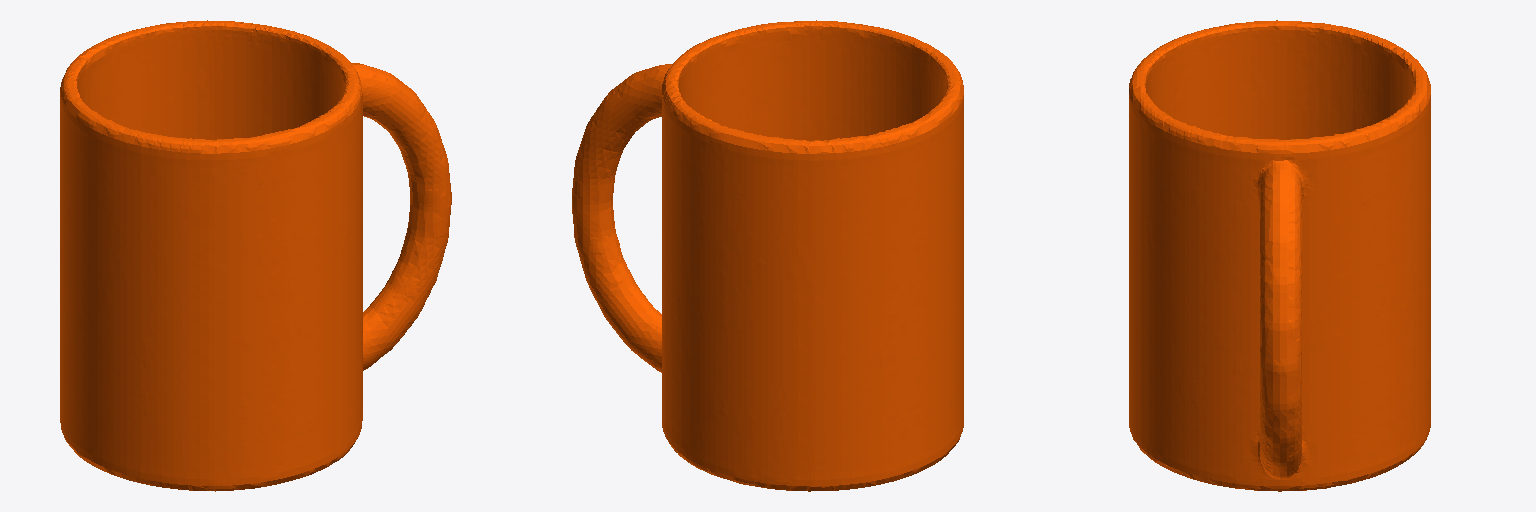
The robot description file, URDF, robot "coffeemug":
<?xml version="1.0" ?>
<robot name="coffeemug">
   <material name="obj_color">
      <color rgba="1.0 0.423529411765 0.0392156862745 1.0"/>
   </material>
   <link name="top">
      <inertial>
         <origin rpy="0.0004860394160278482 0.0005903152767221295 0.0006628325619120242" xyz="-0.0130366633331053 1.874057200945073e-05 -0.01363870291143066"/>
         <mass value="0.3551413429493927"/>
         <inertia ixx="0.0005866178480747908" ixy="-3.265668563784668e-07" ixz="-1.928795259165905e-05" iyy="0.0006628311163633332" iyz="5.573408750741258e-09" izz="0.000489738290223878"/>
      </inertial>
      <visual>
         <origin rpy="0 0 0" xyz="0 0 0"/>
         <geometry>
            <mesh filename="top_watertight_tiny.stl" scale="1 1 1"/>
         </geometry>
         <material name="obj_color"/>
      </visual>
      <collision>
         <origin rpy="0 0 0" xyz="0 0 0"/>
         <geometry>
            <mesh filename="top_watertight_tiny.obj" scale="1 1 1"/>
         </geometry>
      </collision>
   </link>
   <link name="bottom">
      <inertial>
         <origin rpy="1.633333333194242e-08 1.633333333194243e-08 1.633333333357667e-08" xyz="0.3464080000000008 0.3464080000000008 0.3464080000000008"/>
         <mass value="0.0009800000000000017"/>
         <inertia ixx="1.633333333248717e-08" ixy="5.447480642029219e-19" ixz="5.447480642029219e-19" iyy="1.633333333248717e-08" iyz="5.447480642029219e-19" izz="1.633333333248717e-08"/>
      </inertial>
      <visual>
         <origin rpy="0 0 0" xyz="0 0 0"/>
         <geometry>
            <mesh filename="bottom_watertight_tiny.stl" scale="1 1 1"/>
         </geometry>
         <material name="obj_color"/>
      </visual>
   </link>
   <link name="world"/>
   <joint name="world_to_base" type="fixed">
      <origin xyz="0 0 0"/>
      <axis xyz="0 0 0"/>
      <parent link="world"/>
      <child link="bottom"/>
   </joint>
   <joint name="rotation" type="revolute">
      <origin xyz="0 0 0"/>
      <axis xyz="0 0 -1"/>
      <parent link="bottom"/>
      <child link="top"/>
      <dynamics damping="1.0" friction="1.0"/>
      <limit effort="0.1" velocity="0.1" lower="0" upper="0.001"/>
   </joint>
</robot>

--- Render facts (derived) ---
Views: 3 orthographic renders of the robot side by side, from view 1: azimuth 30°, elevation 25°; view 2: azimuth 150°, elevation 25°; view 3: azimuth 270°, elevation 25°.
Robot: coffeemug — 3 links, 2 joints (1 revolute, 1 fixed); root link world; default pose: every joint at zero.
Links seen in each view (by area): view 1: top; view 2: top; view 3: top.
Boxes of the visible links, x1,y1,x2,y2 form: top: [60, 20, 451, 491]; top: [572, 20, 963, 491]; top: [1129, 20, 1430, 491].
Bounding box of the posed robot: 0.1159 × 0.0823 × 0.105 m (x, y, z).
Meshes: 2 distinct files referenced, 1 mesh visuals loaded (1 binary STL); not drawn: 1 (reference not matched to a file when rendering).
